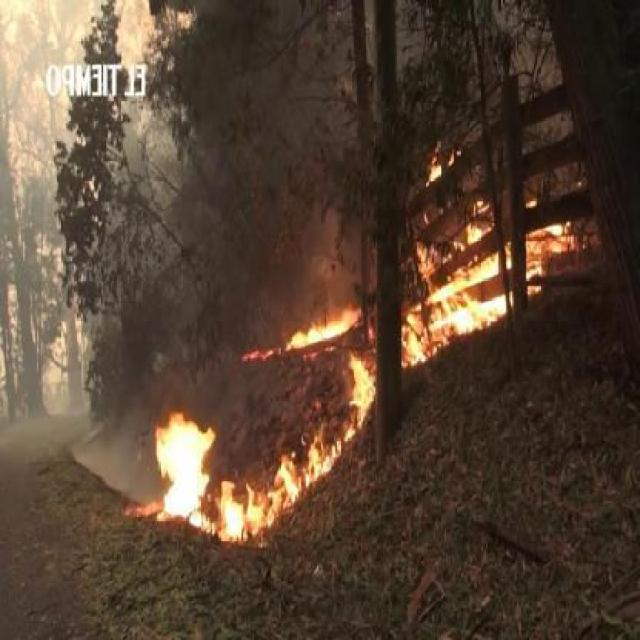Fire: (396, 192, 520, 375), (246, 435, 342, 542), (154, 413, 211, 519), (526, 218, 576, 294), (431, 297, 508, 335), (349, 354, 380, 438), (283, 315, 359, 349), (216, 480, 253, 543), (240, 346, 278, 364), (426, 162, 444, 186)
